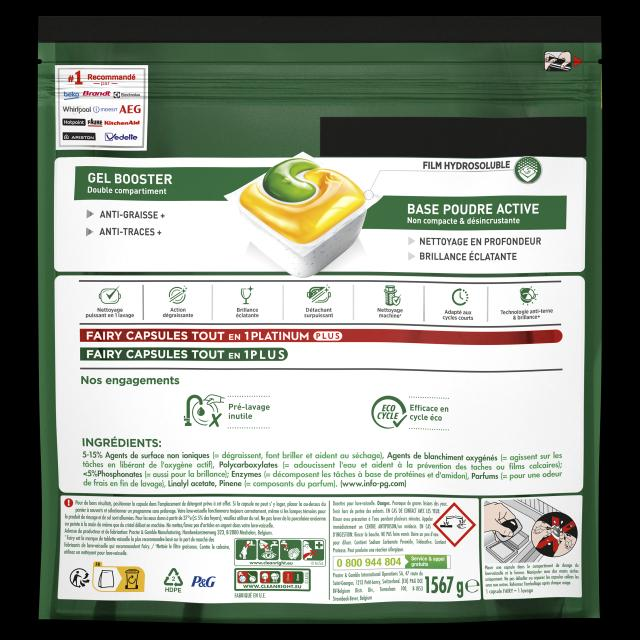GHS_Symbol_CORROSION: (433, 501, 476, 547)
